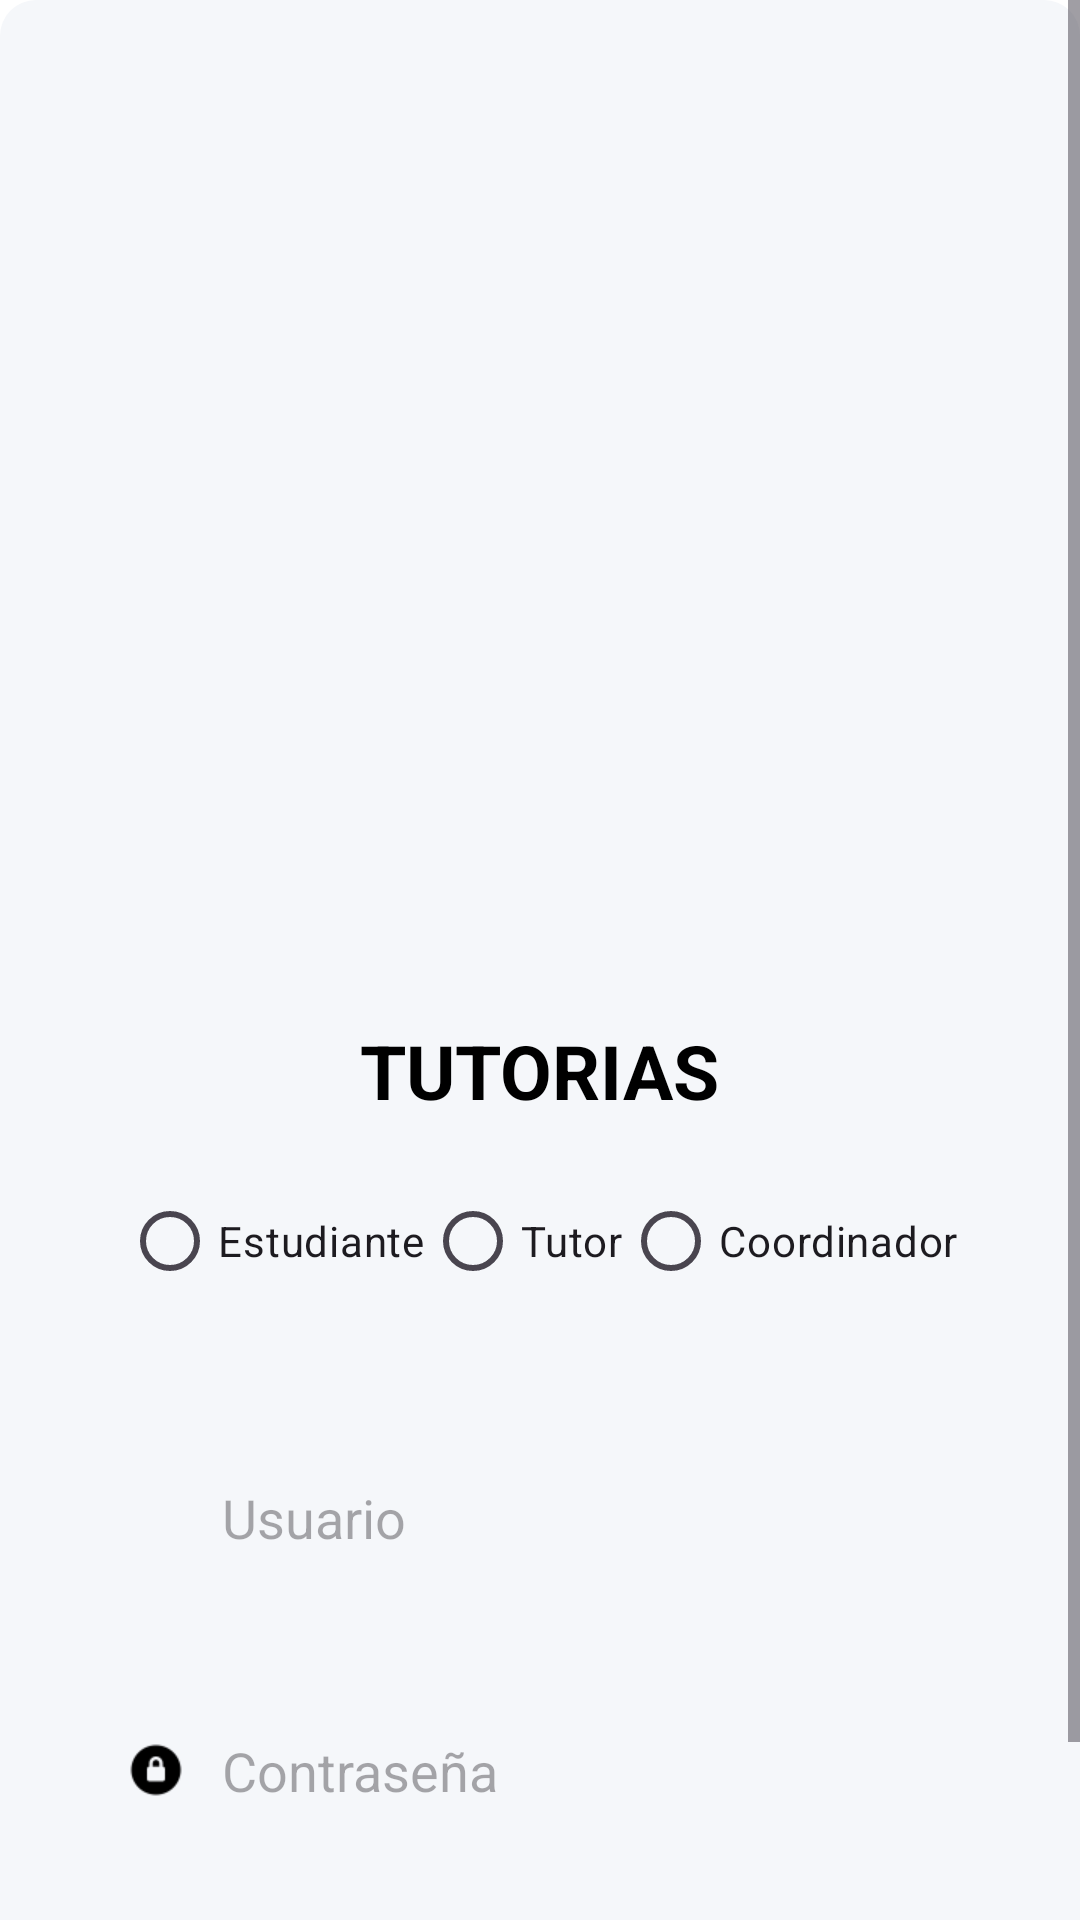

Screen size 1080px×1920px. Icon name, then its box in pixels as box=[x1, y1, x2, y2]:
contrasena: box=[130, 1744, 182, 1796]
